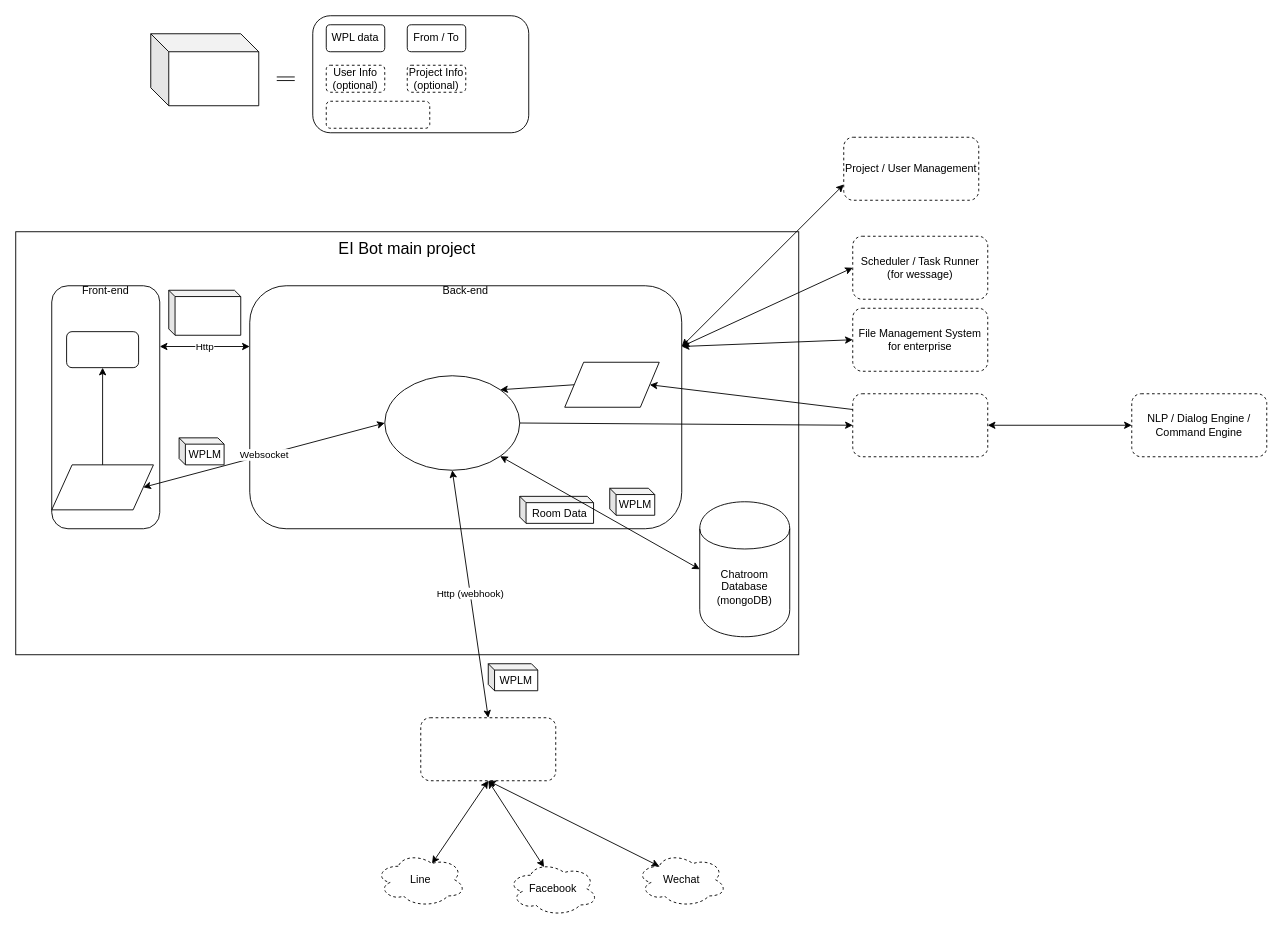
Some shapes in this 1283 by 932 pixel diagram are drawn without their labels. The shapes that lost their labels are listed below. From the top down, each one's centre as x and y in pixels, then its label:
At point 204,69: "WPLM (WPL Message)".
At point 377,114: "Platform Info (optional)".
At point 204,312: "User info / Project info".
At point 102,349: "Wessage".
At point 611,384: "WPL Parser".
At point 452,422: "Chatroom Manager / Wessage Broadcaster".
At point 920,425: "Chatbot Dispatcher".
At point 102,487: "WPLM Render".
At point 488,749: "Message Proxy".
